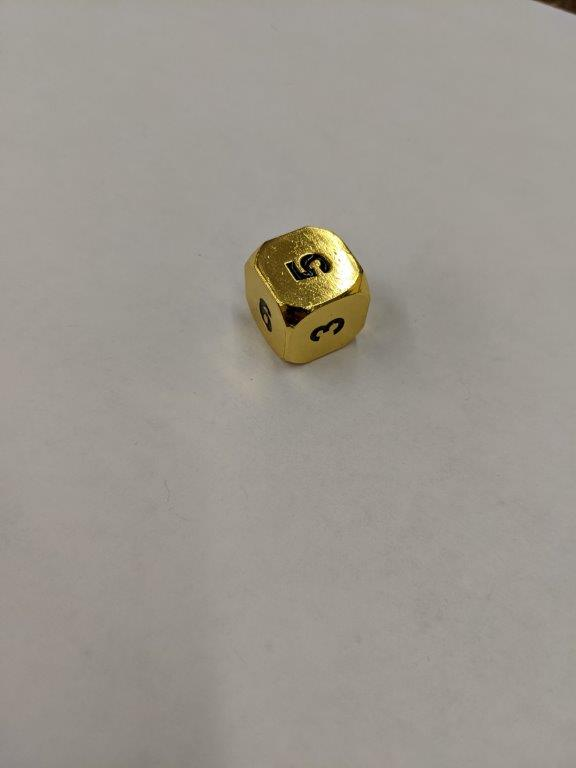d6-5: (242, 223, 370, 367)
